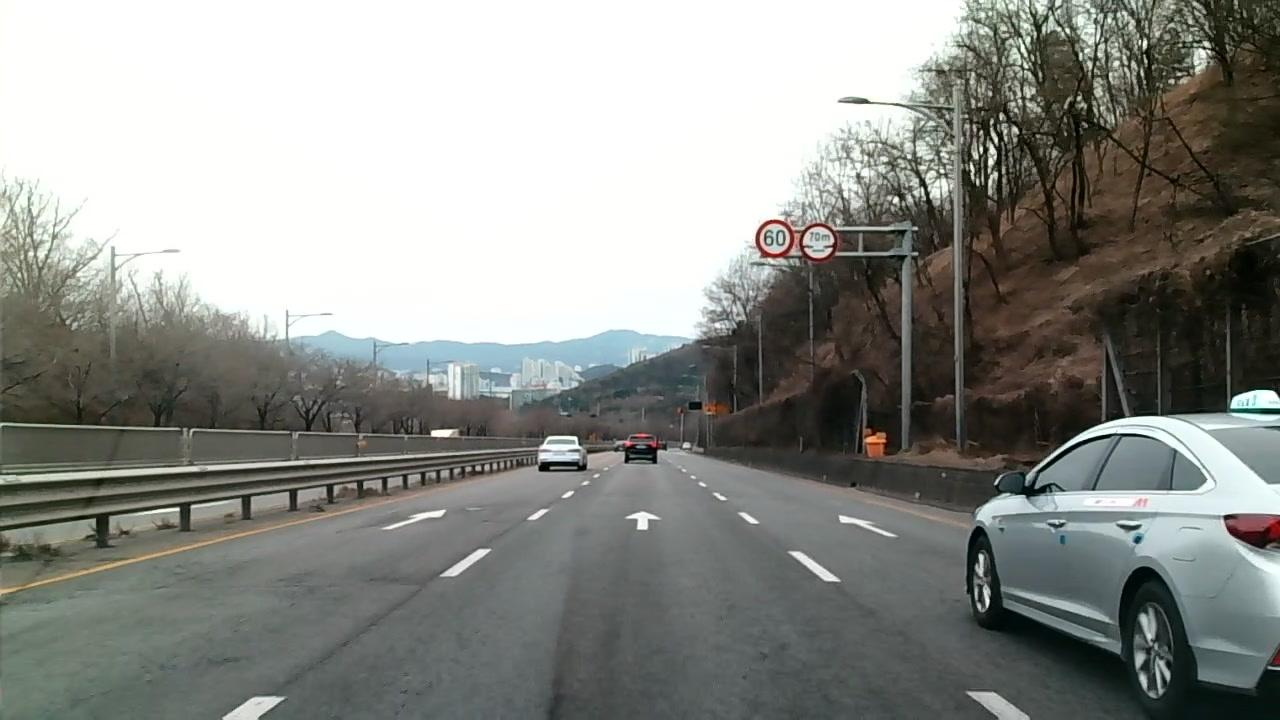erosion: (740, 631, 898, 720)
